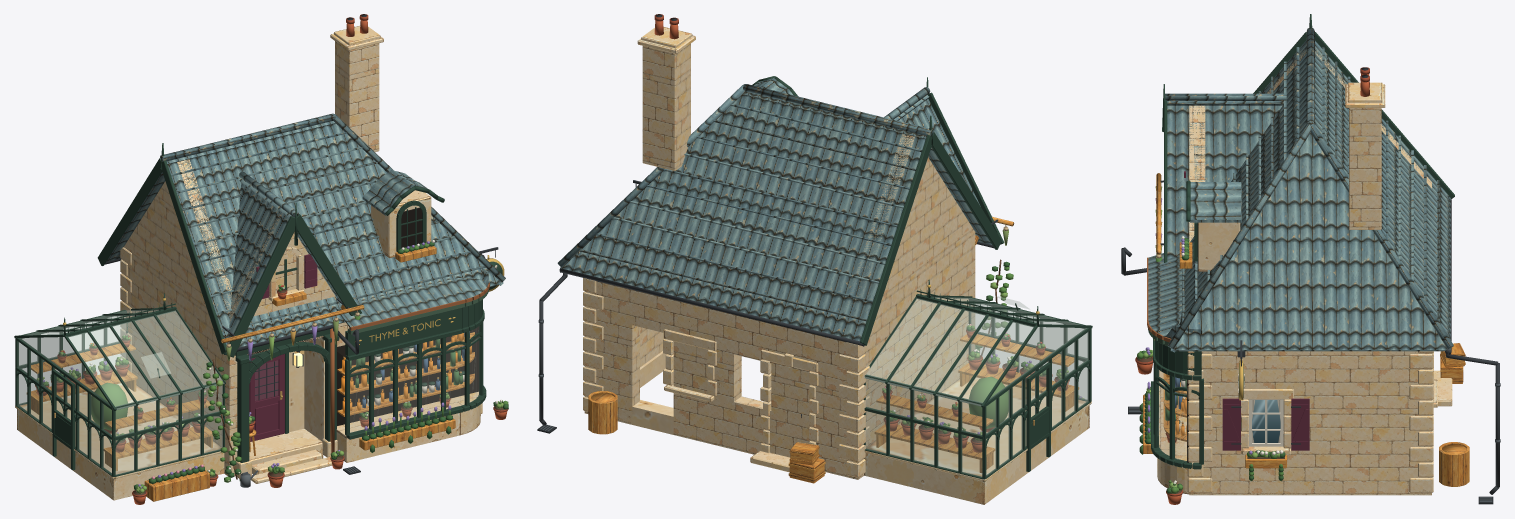
3 views of the same model, side by side, from view 1: azimuth 30°, elevation 25°; view 2: azimuth 150°, elevation 25°; view 3: azimuth 270°, elevation 25° (orthographic). The views are drawn at different scales.
Visible parts, largest first — view 1: seaside_stone, seaside_roof, apoth_green, apoth_house_glass, house_paint, seaside_timber, apoth_clear_glass, apoth_recess, seaside_ridge, door_leaf_apothecary, apoth_copper, apoth_bottle_amber (+2 smaller); view 2: seaside_stone, seaside_roof, apoth_house_glass, apoth_green, house_paint, seaside_timber, seaside_ridge; view 3: seaside_roof, seaside_stone, apoth_green, seaside_ridge, house_paint, seaside_timber, apoth_plum, apoth_clear_glass, house_window_pane, detail_window_boxes.
Part boxes in pixels (<box>): seaside_stone: <box>15,26,482,500</box>; seaside_roof: <box>106,121,503,347</box>; apoth_green: <box>14,143,502,479</box>; apoth_house_glass: <box>18,309,224,474</box>; house_paint: <box>35,14,508,504</box>; seaside_timber: <box>26,246,474,501</box>; apoth_clear_glass: <box>350,326,479,432</box>; apoth_recess: <box>247,207,478,425</box>; seaside_ridge: <box>160,113,505,282</box>; door_leaf_apothecary: <box>249,354,284,441</box>; apoth_copper: <box>330,282,489,452</box>; apoth_bottle_amber: <box>341,333,471,413</box>; seaside_stone: <box>583,27,1091,504</box>; seaside_roof: <box>560,77,991,341</box>; apoth_house_glass: <box>864,296,1088,476</box>; apoth_green: <box>752,76,1092,481</box>; house_paint: <box>537,14,1084,452</box>; seaside_timber: <box>588,216,1079,483</box>; seaside_ridge: <box>557,84,933,267</box>; seaside_roof: <box>1148,40,1450,352</box>; seaside_stone: <box>1157,49,1452,495</box>; apoth_green: <box>1151,14,1454,469</box>; seaside_ridge: <box>1165,28,1453,349</box>; house_paint: <box>1121,67,1500,504</box>; seaside_timber: <box>1143,173,1469,486</box>; apoth_plum: <box>1184,171,1309,450</box>; apoth_clear_glass: <box>1158,370,1186,460</box>; house_window_pane: <box>1252,400,1280,442</box>; detail_window_boxes: <box>1245,450,1286,480</box>.
Size of the model in its own units: 10.82 by 8.94 by 7.66.
18 materials, 6 textured.
